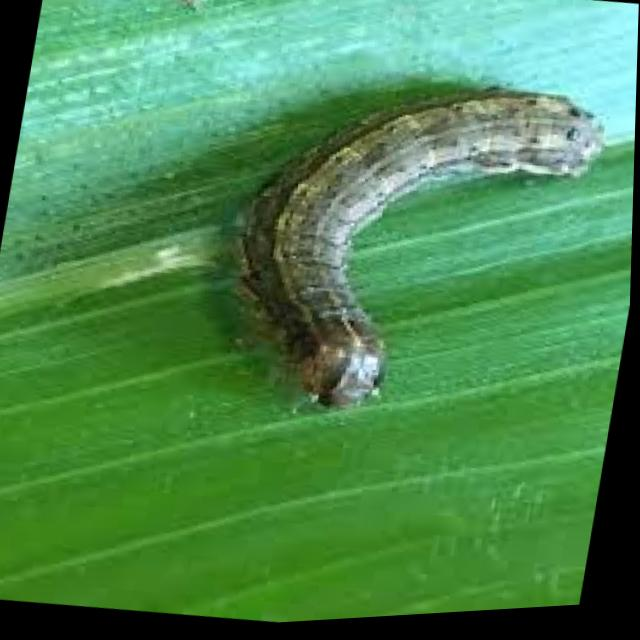Fall-Armyworm: (201, 37, 635, 472)
